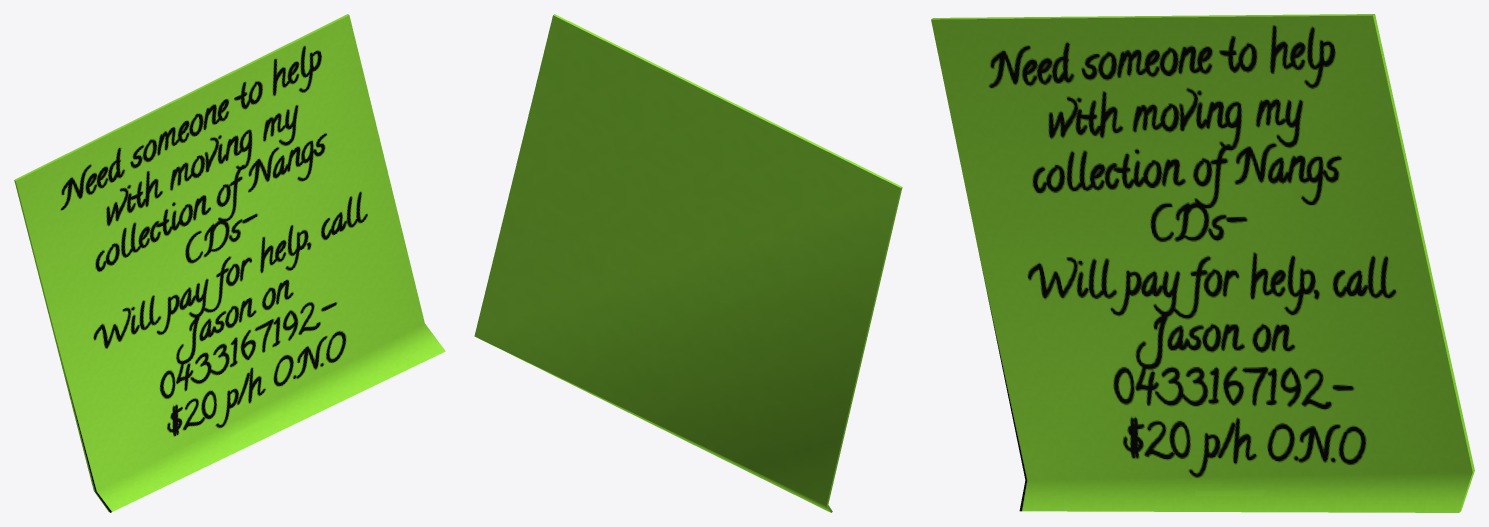
The model's file is StickyNote.fbx.
3 views of the same model, side by side, from view 1: azimuth 30°, elevation 25°; view 2: azimuth 150°, elevation 25°; view 3: azimuth 330°, elevation 25° (orthographic). The views are drawn at different scales.
Visible parts, largest first — view 1: pCube16; view 2: pCube16; view 3: pCube16.
Part boxes in pixels (bbox=[...]): pCube16: bbox=[14, 14, 445, 512]; pCube16: bbox=[474, 14, 902, 512]; pCube16: bbox=[931, 14, 1474, 512].
Size of the model in its own units: 12.83 by 12.6 by 0.9293.
